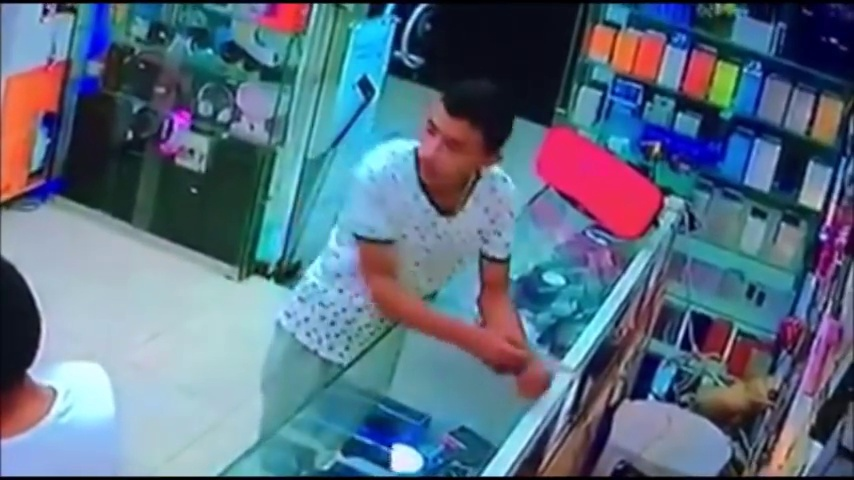face: (412, 109, 493, 184)
